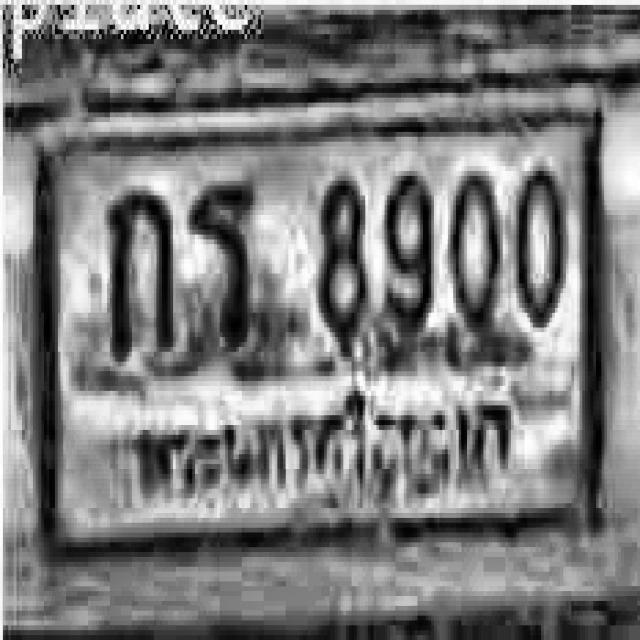license-plate: (9, 72, 608, 618)
